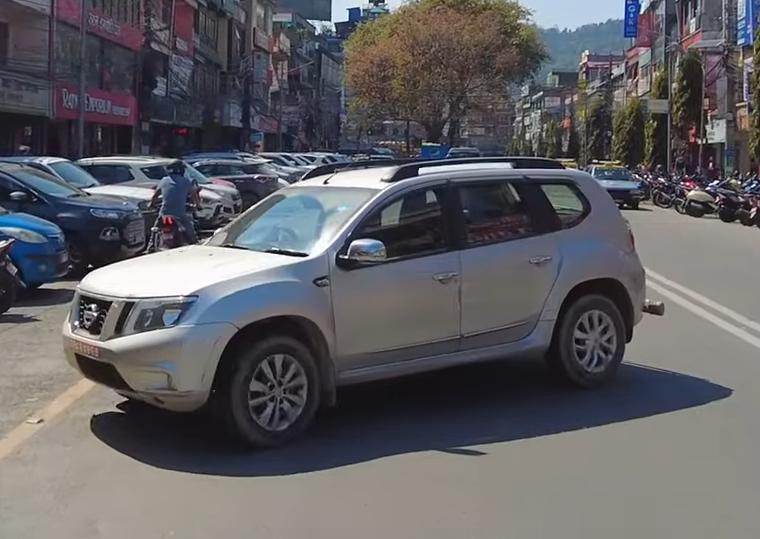car: (67, 136, 664, 439)
taxi: (582, 157, 646, 210)
